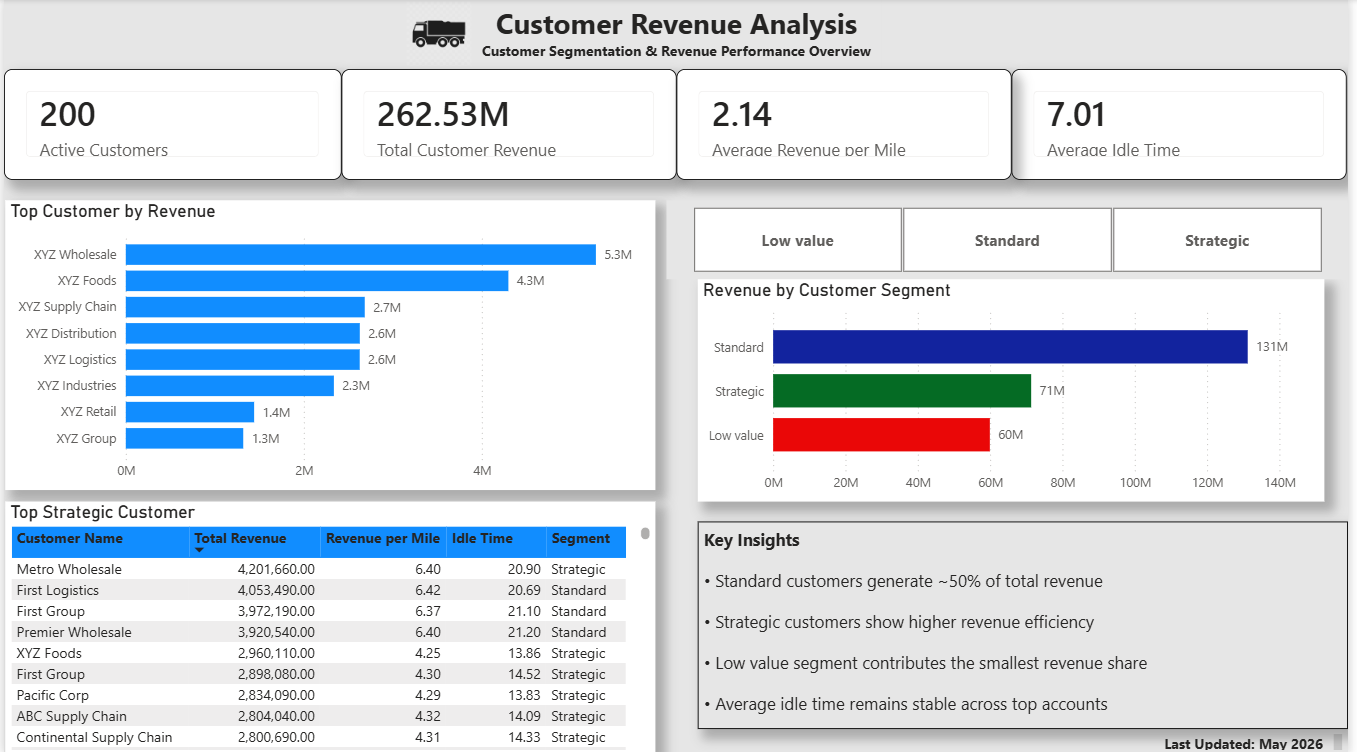

The page's visual inventory and layout, read from the dashboard file:
{"tool":"powerbi","page":{"name":"Customer Revenue Analysis","canvas":[1280,720],"ordinal":1},"visuals":[{"type":"textbox","box":[445.2,0,390.5,66.7],"z":0},{"type":"textbox","box":[1100,695.2,179.8,25],"z":1000},{"type":"image","box":[383.3,0,61.9,66.7],"z":2000},{"type":"cardVisual","fields":{"Data":["Avg(public customer_performance_view.avg_idle_time)"]},"box":[959.5,66.7,319,106],"z":3000},{"type":"cardVisual","fields":{"Data":["CountNonNull(public customer_performance_view.customer_id)"]},"box":[0,66.7,321.4,106],"z":4000},{"type":"cardVisual","fields":{"Data":["Sum(public customer_performance_view.total_revenue)"]},"box":[321.4,66.7,319,106],"z":5000},{"type":"cardVisual","fields":{"Data":["Avg(public customer_performance_view.avg_revenue_per_mile)"]},"box":[640.5,66.7,319,106],"z":6000},{"type":"barChart","title":"Revenue by Customer Segment","fields":{"Category":["public customer_performance_view.customer_segment"],"Y":["Sum(public customer_performance_view.total_revenue)"]},"box":[660.7,266.7,596.4,211.9],"z":7000},{"type":"clusteredBarChart","title":"Top Customer by Revenue","fields":{"Category":["public customer_performance_view.customer_name"],"Y":["Sum(public customer_performance_view.total_revenue)"]},"box":[1.2,191.7,619.1,276.2],"z":8000},{"type":"slicer","fields":{"Values":["public customer_performance_view.customer_segment"]},"box":[631,191.7,647.6,75],"z":9000},{"type":"tableEx","title":"Top Strategic Customer","fields":{"Values":["public customer_performance_view.customer_name","Sum(public customer_performance_view.total_revenue)","Sum(public customer_performance_view.avg_revenue_per_mile)","Sum(public customer_performance_view.avg_idle_time)","public customer_performance_view.customer_segment"]},"box":[1.2,478.6,619.1,241.7],"z":10000},{"type":"textbox","box":[660.7,497.6,619.1,197.6],"z":11000}]}

Visuals, with their boxes in screenshot pixels (x1, y1, x2, y2), scaled from the page's 1280x720 canvas onto the 1357x752 screenshot:
textbox: (x1=472, y1=0, x2=886, y2=70)
textbox: (x1=1166, y1=726, x2=1356, y2=751)
image: (x1=406, y1=0, x2=472, y2=70)
cardVisual - Avg(public customer_performance_view.avg_idle_time): (x1=1017, y1=70, x2=1355, y2=180)
cardVisual - CountNonNull(public customer_performance_view.customer_id): (x1=0, y1=70, x2=341, y2=180)
cardVisual - Sum(public customer_performance_view.total_revenue): (x1=341, y1=70, x2=679, y2=180)
cardVisual - Avg(public customer_performance_view.avg_revenue_per_mile): (x1=679, y1=70, x2=1017, y2=180)
"Revenue by Customer Segment" barChart: (x1=700, y1=279, x2=1333, y2=500)
"Top Customer by Revenue" clusteredBarChart: (x1=1, y1=200, x2=658, y2=489)
slicer - public customer_performance_view.customer_segment: (x1=669, y1=200, x2=1356, y2=279)
"Top Strategic Customer" tableEx: (x1=1, y1=500, x2=658, y2=751)
textbox: (x1=700, y1=520, x2=1356, y2=726)
